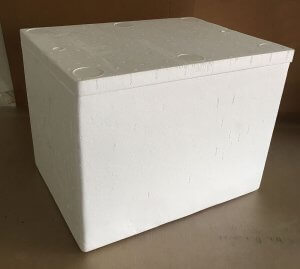Foam Box: (15, 14, 296, 255)
